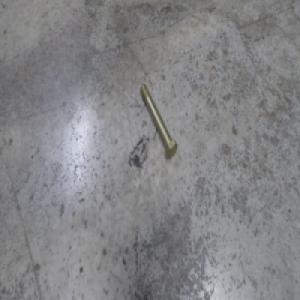Bolt: (138, 82, 178, 160)
